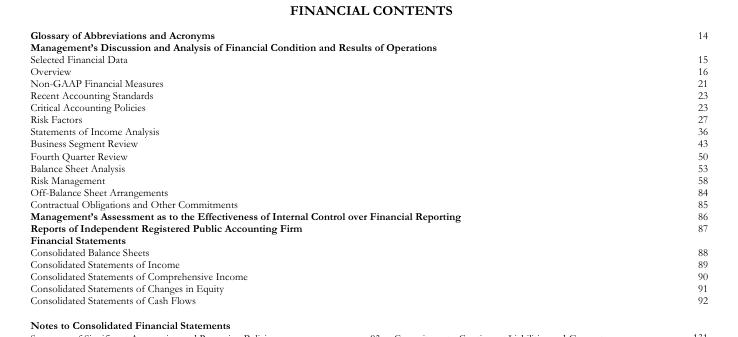table: (29, 28, 707, 306)
table column: (29, 28, 578, 306), (578, 28, 707, 306)
table projected row header: (29, 40, 707, 52), (29, 233, 707, 245)
table row: (29, 100, 707, 113), (29, 257, 707, 270), (29, 28, 707, 40), (29, 40, 707, 52), (29, 52, 707, 64), (29, 64, 707, 76), (29, 76, 707, 88), (29, 88, 707, 100), (29, 113, 707, 125), (29, 125, 707, 137), (29, 137, 707, 149), (29, 149, 707, 161), (29, 161, 707, 173), (29, 173, 707, 185), (29, 185, 707, 197), (29, 197, 707, 209), (29, 209, 707, 221), (29, 221, 707, 233), (29, 233, 707, 245), (29, 245, 707, 257), (29, 270, 707, 282), (29, 282, 707, 294), (29, 294, 707, 306)
